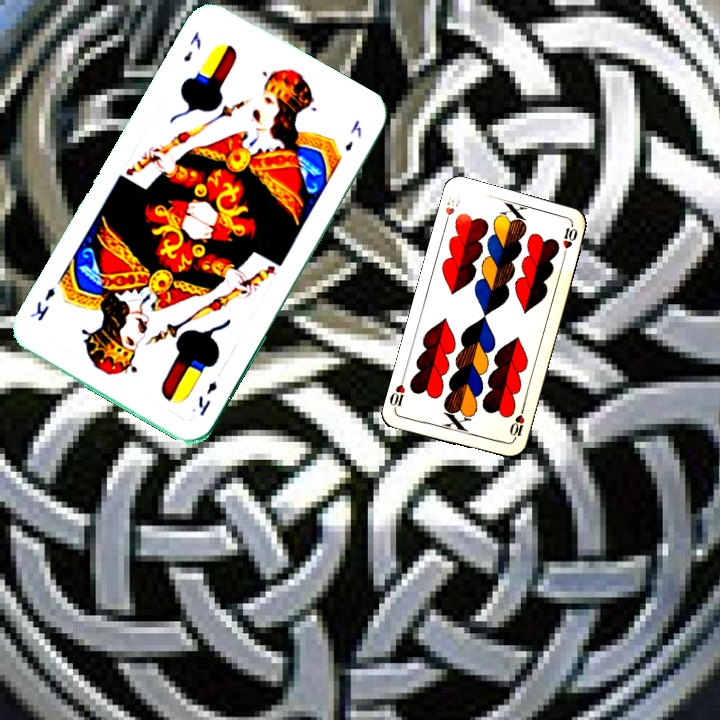EK: (194, 377, 220, 419), (179, 27, 204, 65)
H10: (505, 404, 527, 444), (440, 191, 463, 229)
